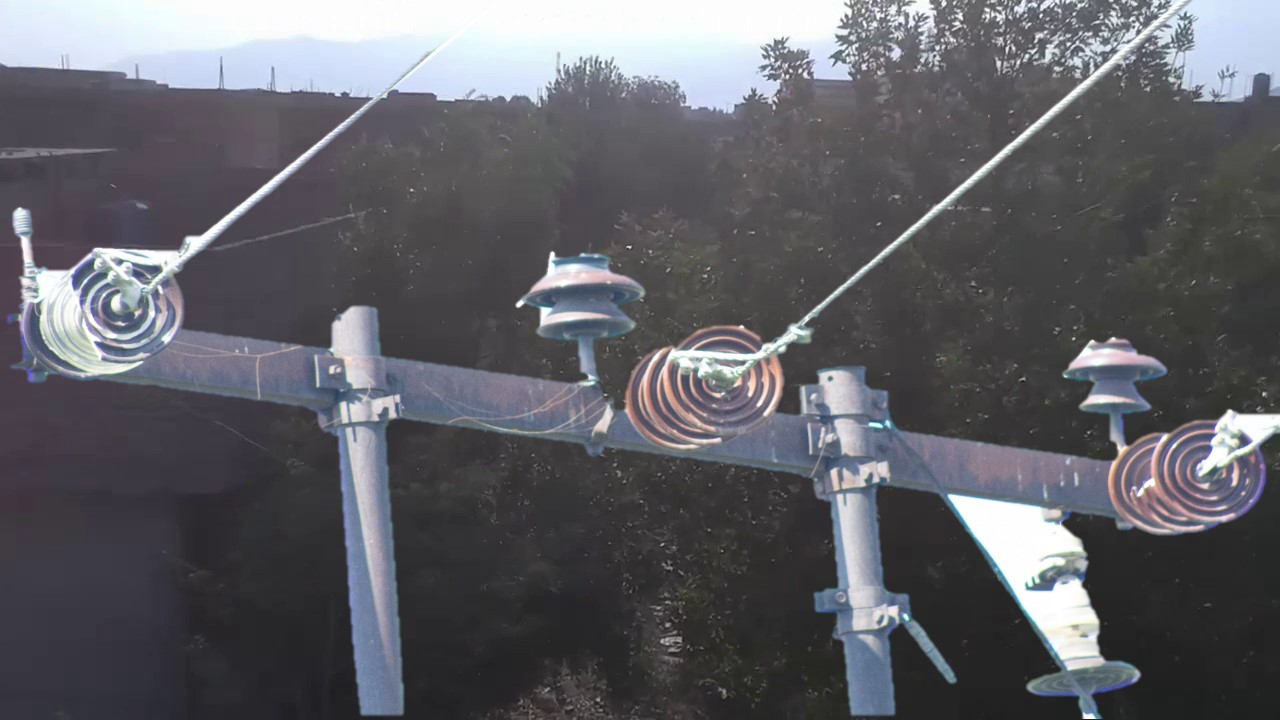defect_disc: (66, 240, 189, 368)
insulator_disc: (659, 318, 788, 440), (1150, 415, 1270, 530)
